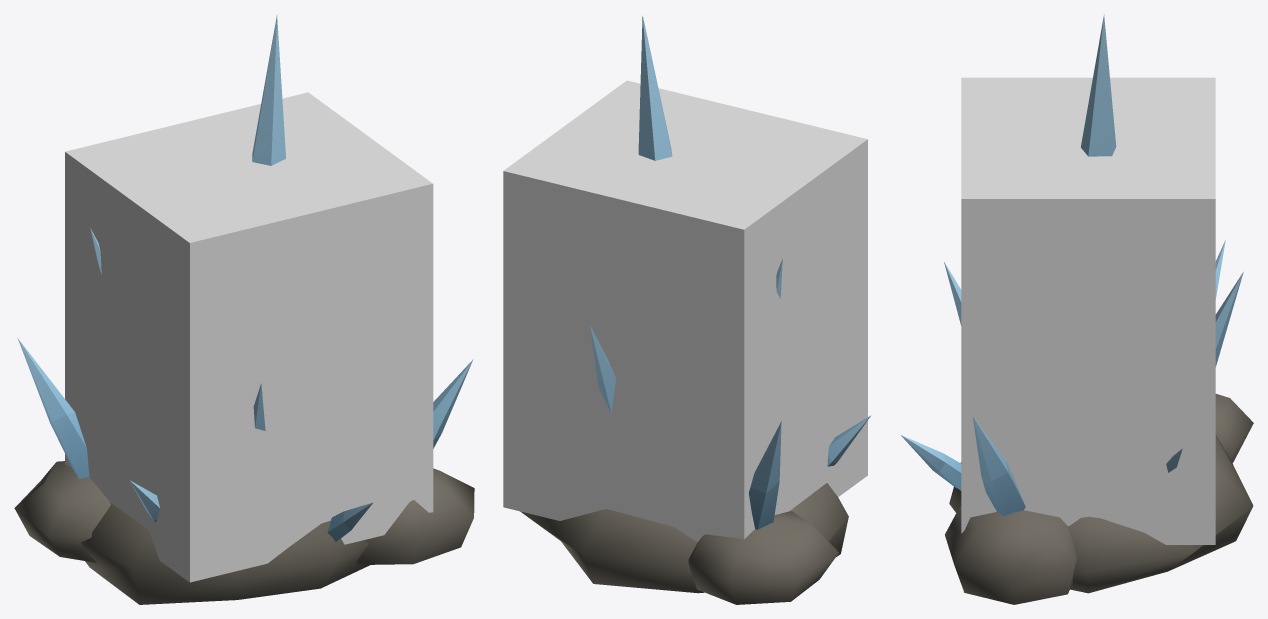
The model's file is ice_spikes_a.glb.
The picture shows the model from 3 angles, left to right: view 1: azimuth 30°, elevation 25°; view 2: azimuth 150°, elevation 25°; view 3: azimuth 270°, elevation 25°; orthographic projection. The views are drawn at different scales.
Parts seen in each view (by area): view 1: COL_ice, ice_spikes_a; view 2: COL_ice, ice_spikes_a; view 3: COL_ice, ice_spikes_a.
Part boxes in pixels (<box>): COL_ice: <box>65,92,433,582</box>; ice_spikes_a: <box>14,14,474,604</box>; COL_ice: <box>503,80,867,542</box>; ice_spikes_a: <box>520,15,871,604</box>; COL_ice: <box>961,77,1215,544</box>; ice_spikes_a: <box>901,14,1253,604</box>.
Bounding box in the file's own units: 4.07 × 5.59 × 3.33.
